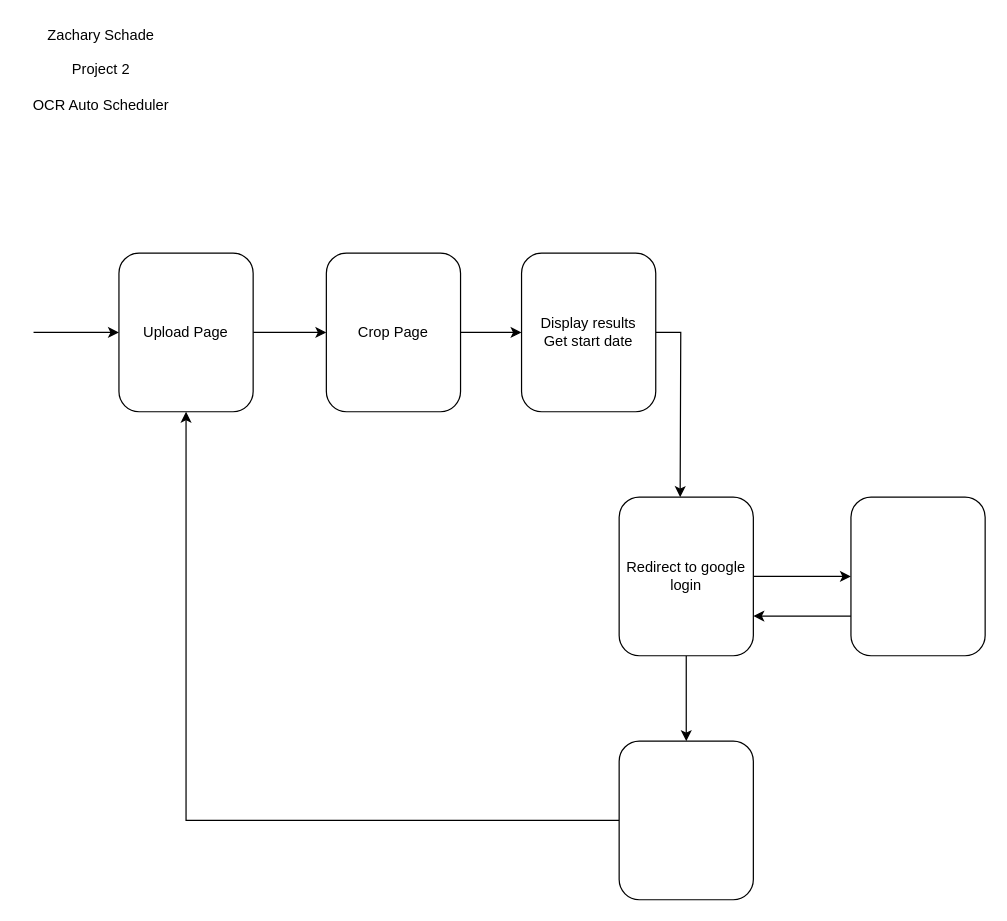
Some shapes in this 1007 by 921 pixel diagram are drawn without their labels. Here are the shapes that lost their labels. From the top down, the centre of each, then its label:
At point (917, 576): "Google sign in".
At point (685, 820): "Show success screen".
